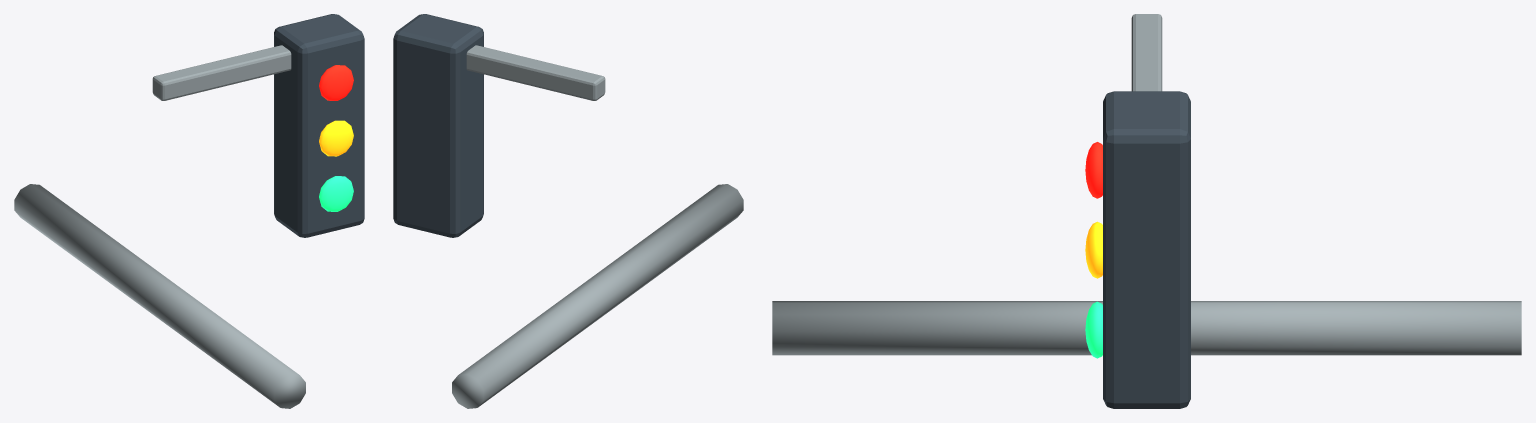
File: traffic_light.glb
3 views of the same model, side by side, from view 1: azimuth 30°, elevation 25°; view 2: azimuth 150°, elevation 25°; view 3: azimuth 270°, elevation 25° (orthographic). The views are drawn at different scales.
Visible parts, largest first — view 1: signal_housing, signal_pole, signal_arm, signal_lens.001, signal_lens, signal_lens.002; view 2: signal_housing, signal_pole, signal_arm; view 3: signal_pole, signal_housing, signal_arm, signal_lens, signal_lens.001, signal_lens.002.
Boxes of the visible parts, x1=… form: signal_housing: x1=274, y1=14, x2=364, y2=237; signal_pole: x1=14, y1=184, x2=305, y2=408; signal_arm: x1=152, y1=45, x2=291, y2=100; signal_lens.001: x1=319, y1=120, x2=353, y2=156; signal_lens: x1=319, y1=65, x2=353, y2=100; signal_lens.002: x1=319, y1=176, x2=353, y2=211; signal_housing: x1=393, y1=14, x2=483, y2=237; signal_pole: x1=452, y1=184, x2=743, y2=408; signal_arm: x1=466, y1=45, x2=605, y2=100; signal_pole: x1=772, y1=301, x2=1521, y2=355; signal_housing: x1=1103, y1=91, x2=1190, y2=408; signal_arm: x1=1131, y1=14, x2=1162, y2=91; signal_lens: x1=1085, y1=142, x2=1102, y2=198; signal_lens.001: x1=1085, y1=221, x2=1102, y2=278; signal_lens.002: x1=1085, y1=301, x2=1102, y2=358.
Size of the model in its own units: 0.3138 by 0.355 by 0.68.
